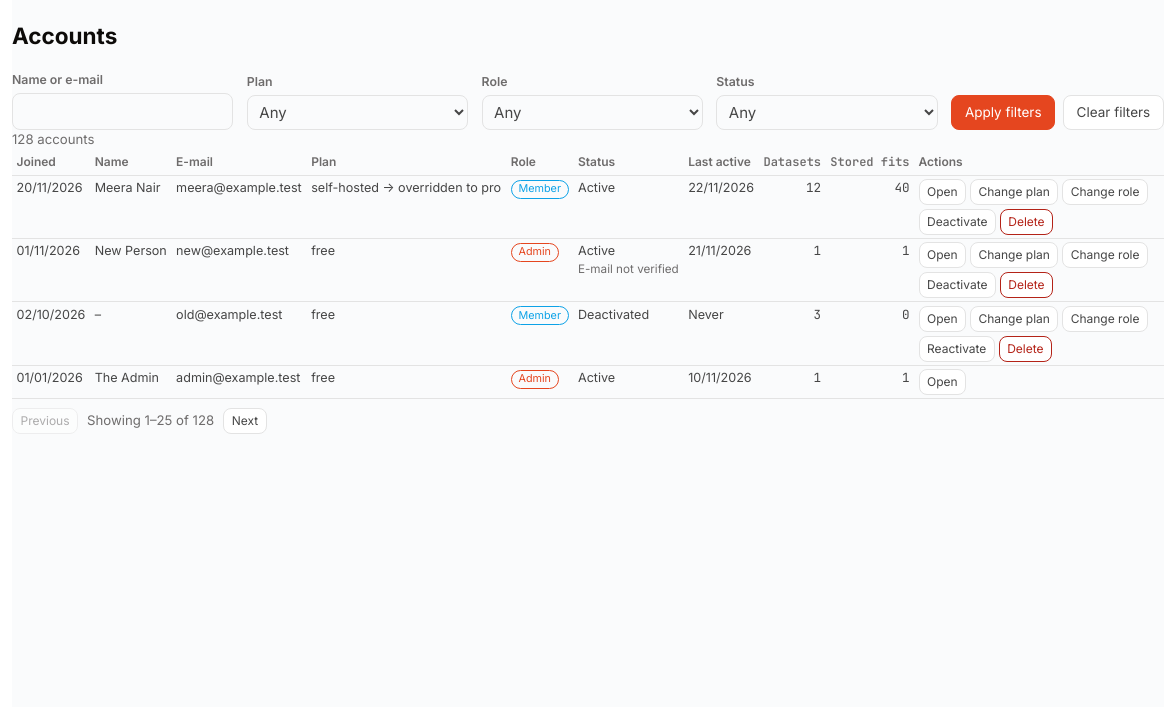
Test: UsersPage — one account's detail › opens below the list, takes the focus, and shows the usage against the plan's limits
Expected: the table named "Accounts" is shown, [12,150,1164,399]
Step 1. Click the button with aria-label "Open meera@example.test" → (942, 192), box [918,179,966,205]
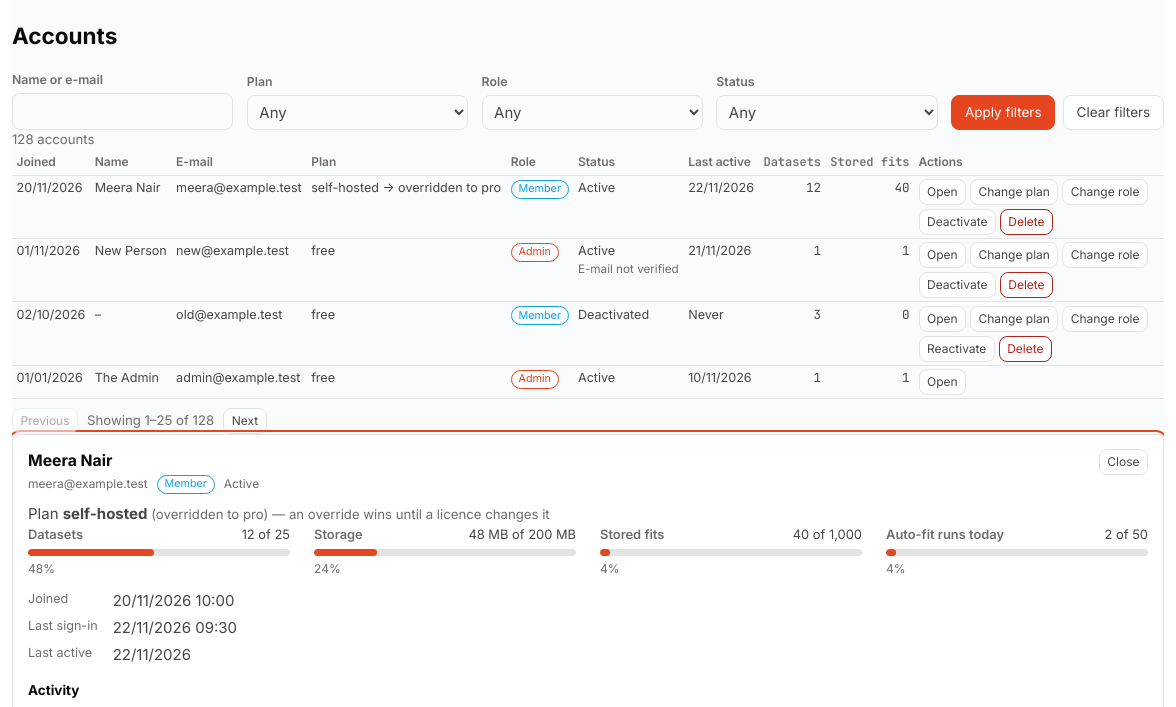
Now the progress indicator named "Storage" is shown, box [314,549,576,556]
Now the text "self-hosted" is shown, box [63,504,148,523]
Now the text "overridden to pro" is shown, box [151,506,268,522]
